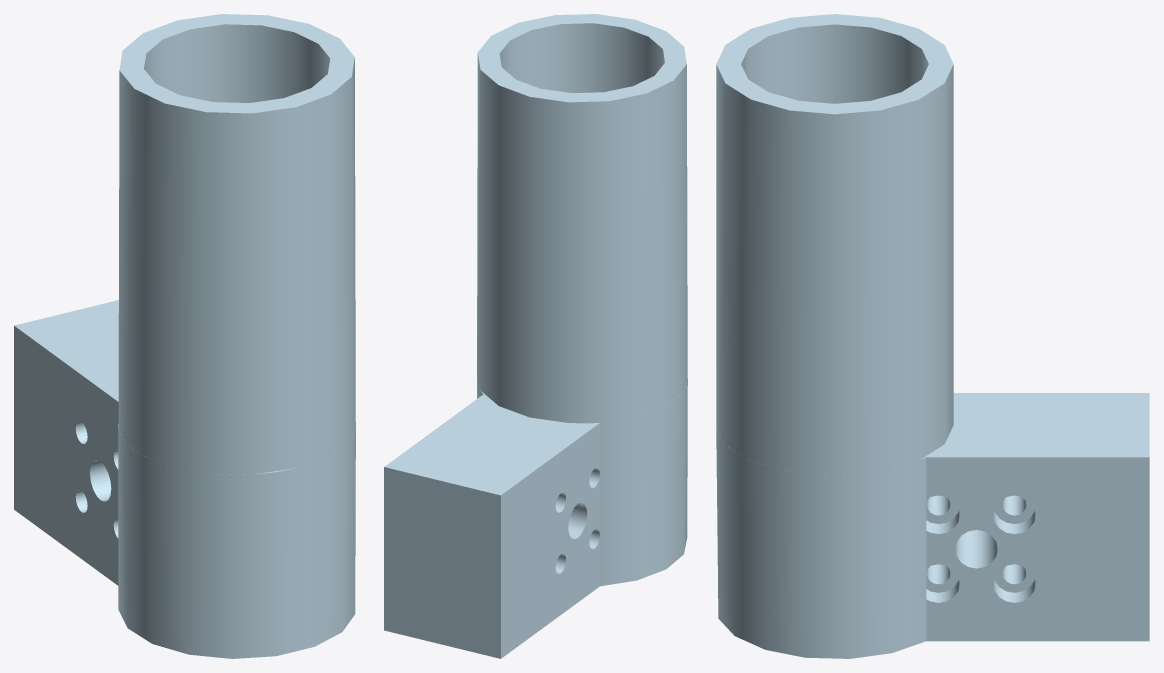
3 views of the same model, side by side, from view 1: azimuth 30°, elevation 25°; view 2: azimuth 150°, elevation 25°; view 3: azimuth 270°, elevation 25° (orthographic). The views are drawn at different scales.
Visible parts, largest first — view 1: mesh305, mesh315, mesh323, mesh303, mesh304, mesh316, mesh319; view 2: mesh305, mesh317, mesh323, mesh315, mesh316, mesh303, mesh304, mesh319; view 3: mesh305, mesh315, mesh318, mesh316, mesh303, mesh304, mesh319.
Boxes of the visible parts, x1,y1,x2,y2 form: mesh305: (118, 57, 355, 474); mesh315: (118, 427, 355, 658); mesh323: (14, 326, 118, 585); mesh303: (144, 24, 330, 102); mesh304: (119, 14, 354, 113); mesh316: (14, 300, 355, 474); mesh319: (90, 460, 111, 501); mesh305: (477, 53, 687, 423); mesh317: (384, 467, 500, 658); mesh323: (501, 423, 599, 658); mesh315: (477, 379, 687, 586); mesh316: (384, 378, 687, 495); mesh303: (499, 23, 664, 92); mesh304: (478, 14, 686, 102); mesh319: (568, 502, 587, 539); mesh305: (716, 65, 953, 475); mesh315: (716, 428, 926, 658); mesh318: (926, 457, 1149, 641); mesh316: (719, 393, 1149, 475); mesh303: (741, 24, 928, 103); mesh304: (716, 14, 953, 114); mesh319: (955, 530, 997, 568).
Size of the model in its own units: 0.0501 by 0.1268 by 0.0914.
